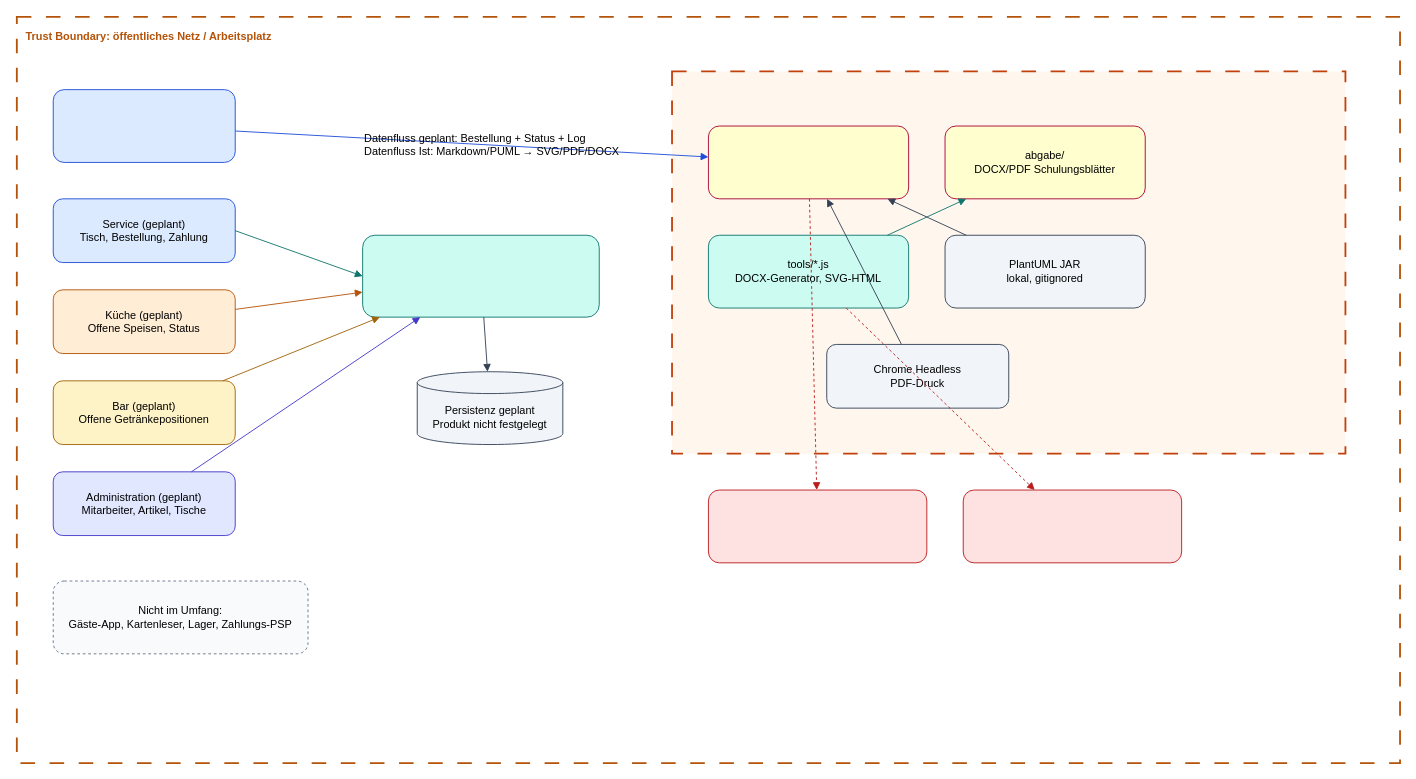
Some shapes in this 1416 by 779 pixel diagram are drawn without their labels. The box of each missing label's shape, as (x1, y1, x2, y2) in pixels:
Autor / Entwicklung Rolle: Dokumente und Generatoren: (52, 89, 235, 162)
docs/ Anforderungen, Planung, UML 07/08: (708, 125, 909, 199)
GitHub Remote niki356565rt/LF10-Projekt: (708, 489, 927, 563)
npm Registry docx 9.7.1 + Transitive: (962, 489, 1182, 563)
Systemkern geplant Statusmaschine, Protokoll A-13 keine Implementierung im Repo: (362, 234, 599, 317)
Trust Boundary: lokaler Dokumenten-Stack: (671, 70, 1346, 454)
